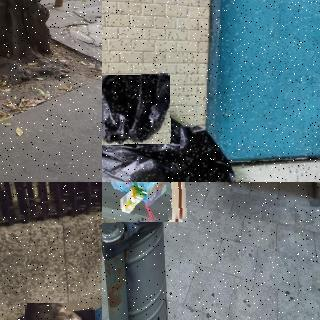Garbage: (102, 74, 170, 144), (170, 125, 235, 182), (102, 182, 185, 223), (102, 141, 170, 182), (26, 302, 95, 320)
